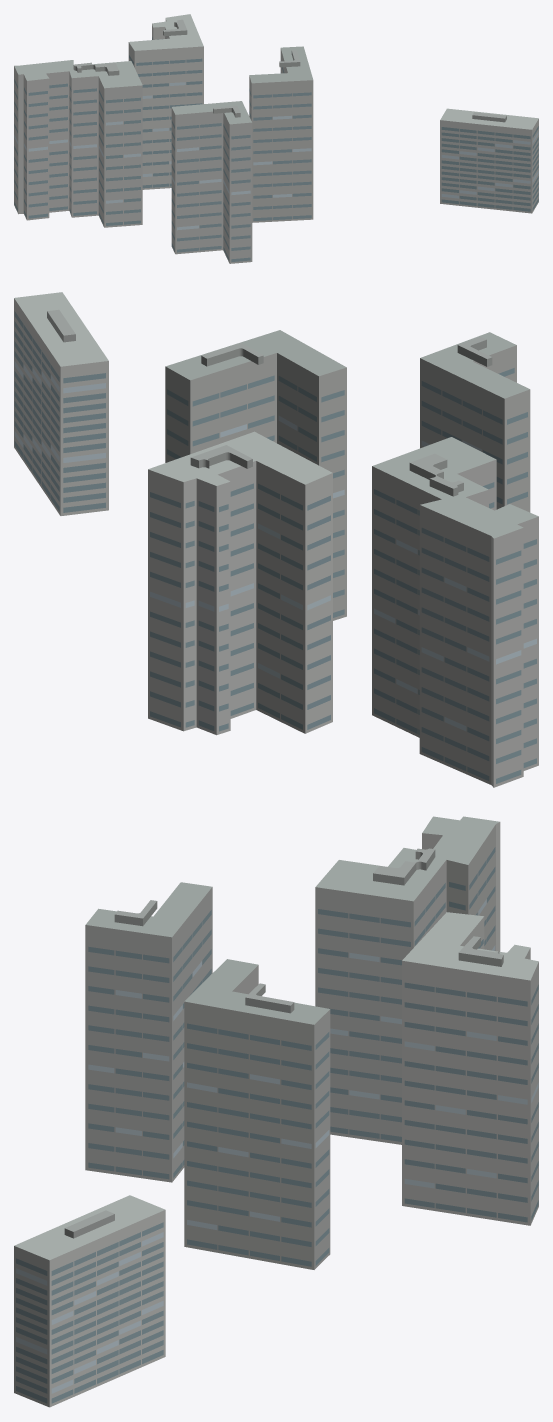
Rendered from apt-a13586602.glb.
3 views of the same model, one above another, from view 1: azimuth 30°, elevation 25°; view 2: azimuth 150°, elevation 25°; view 3: azimuth 270°, elevation 25° (orthographic). The views are drawn at different scales.
Parts seen in each view (by area): view 1: apt-a13586602; view 2: apt-a13586602; view 3: apt-a13586602.
Boxes of the visible parts, left/top/right/bottom form: apt-a13586602: left=14, top=14, right=538, bottom=263; apt-a13586602: left=14, top=292, right=538, bottom=787; apt-a13586602: left=14, top=816, right=538, bottom=1407.
Bounding box in the file's own units: 231 × 78.65 × 148.
